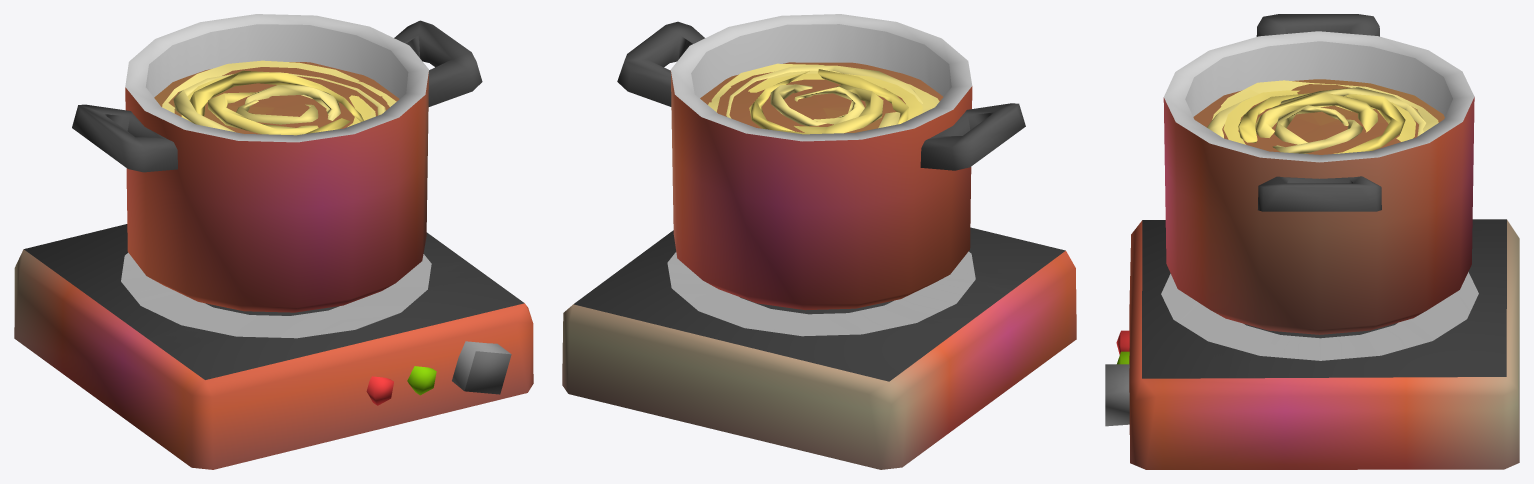
Rendered from Rig_K42.fbx.
3 renders of one model, left to right at view 1: azimuth 30°, elevation 25°; view 2: azimuth 150°, elevation 25°; view 3: azimuth 270°, elevation 25°, orthographic. The views are drawn at different scales.
Parts seen in each view (by area): view 1: K42_1, K42; view 2: K42_1, K42; view 3: K42_1, K42.
Boxes of the visible parts, box(x1,y1,x2,y2) form: K42_1: box(72, 14, 482, 312); K42: box(14, 224, 533, 469); K42_1: box(617, 14, 1025, 310); K42: box(562, 227, 1076, 469); K42_1: box(1163, 14, 1474, 334); K42: box(1105, 219, 1519, 469).
Size of the model in its own units: 66.95 by 51.25 by 66.68.
